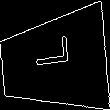L_W: (33, 44, 75, 80)
